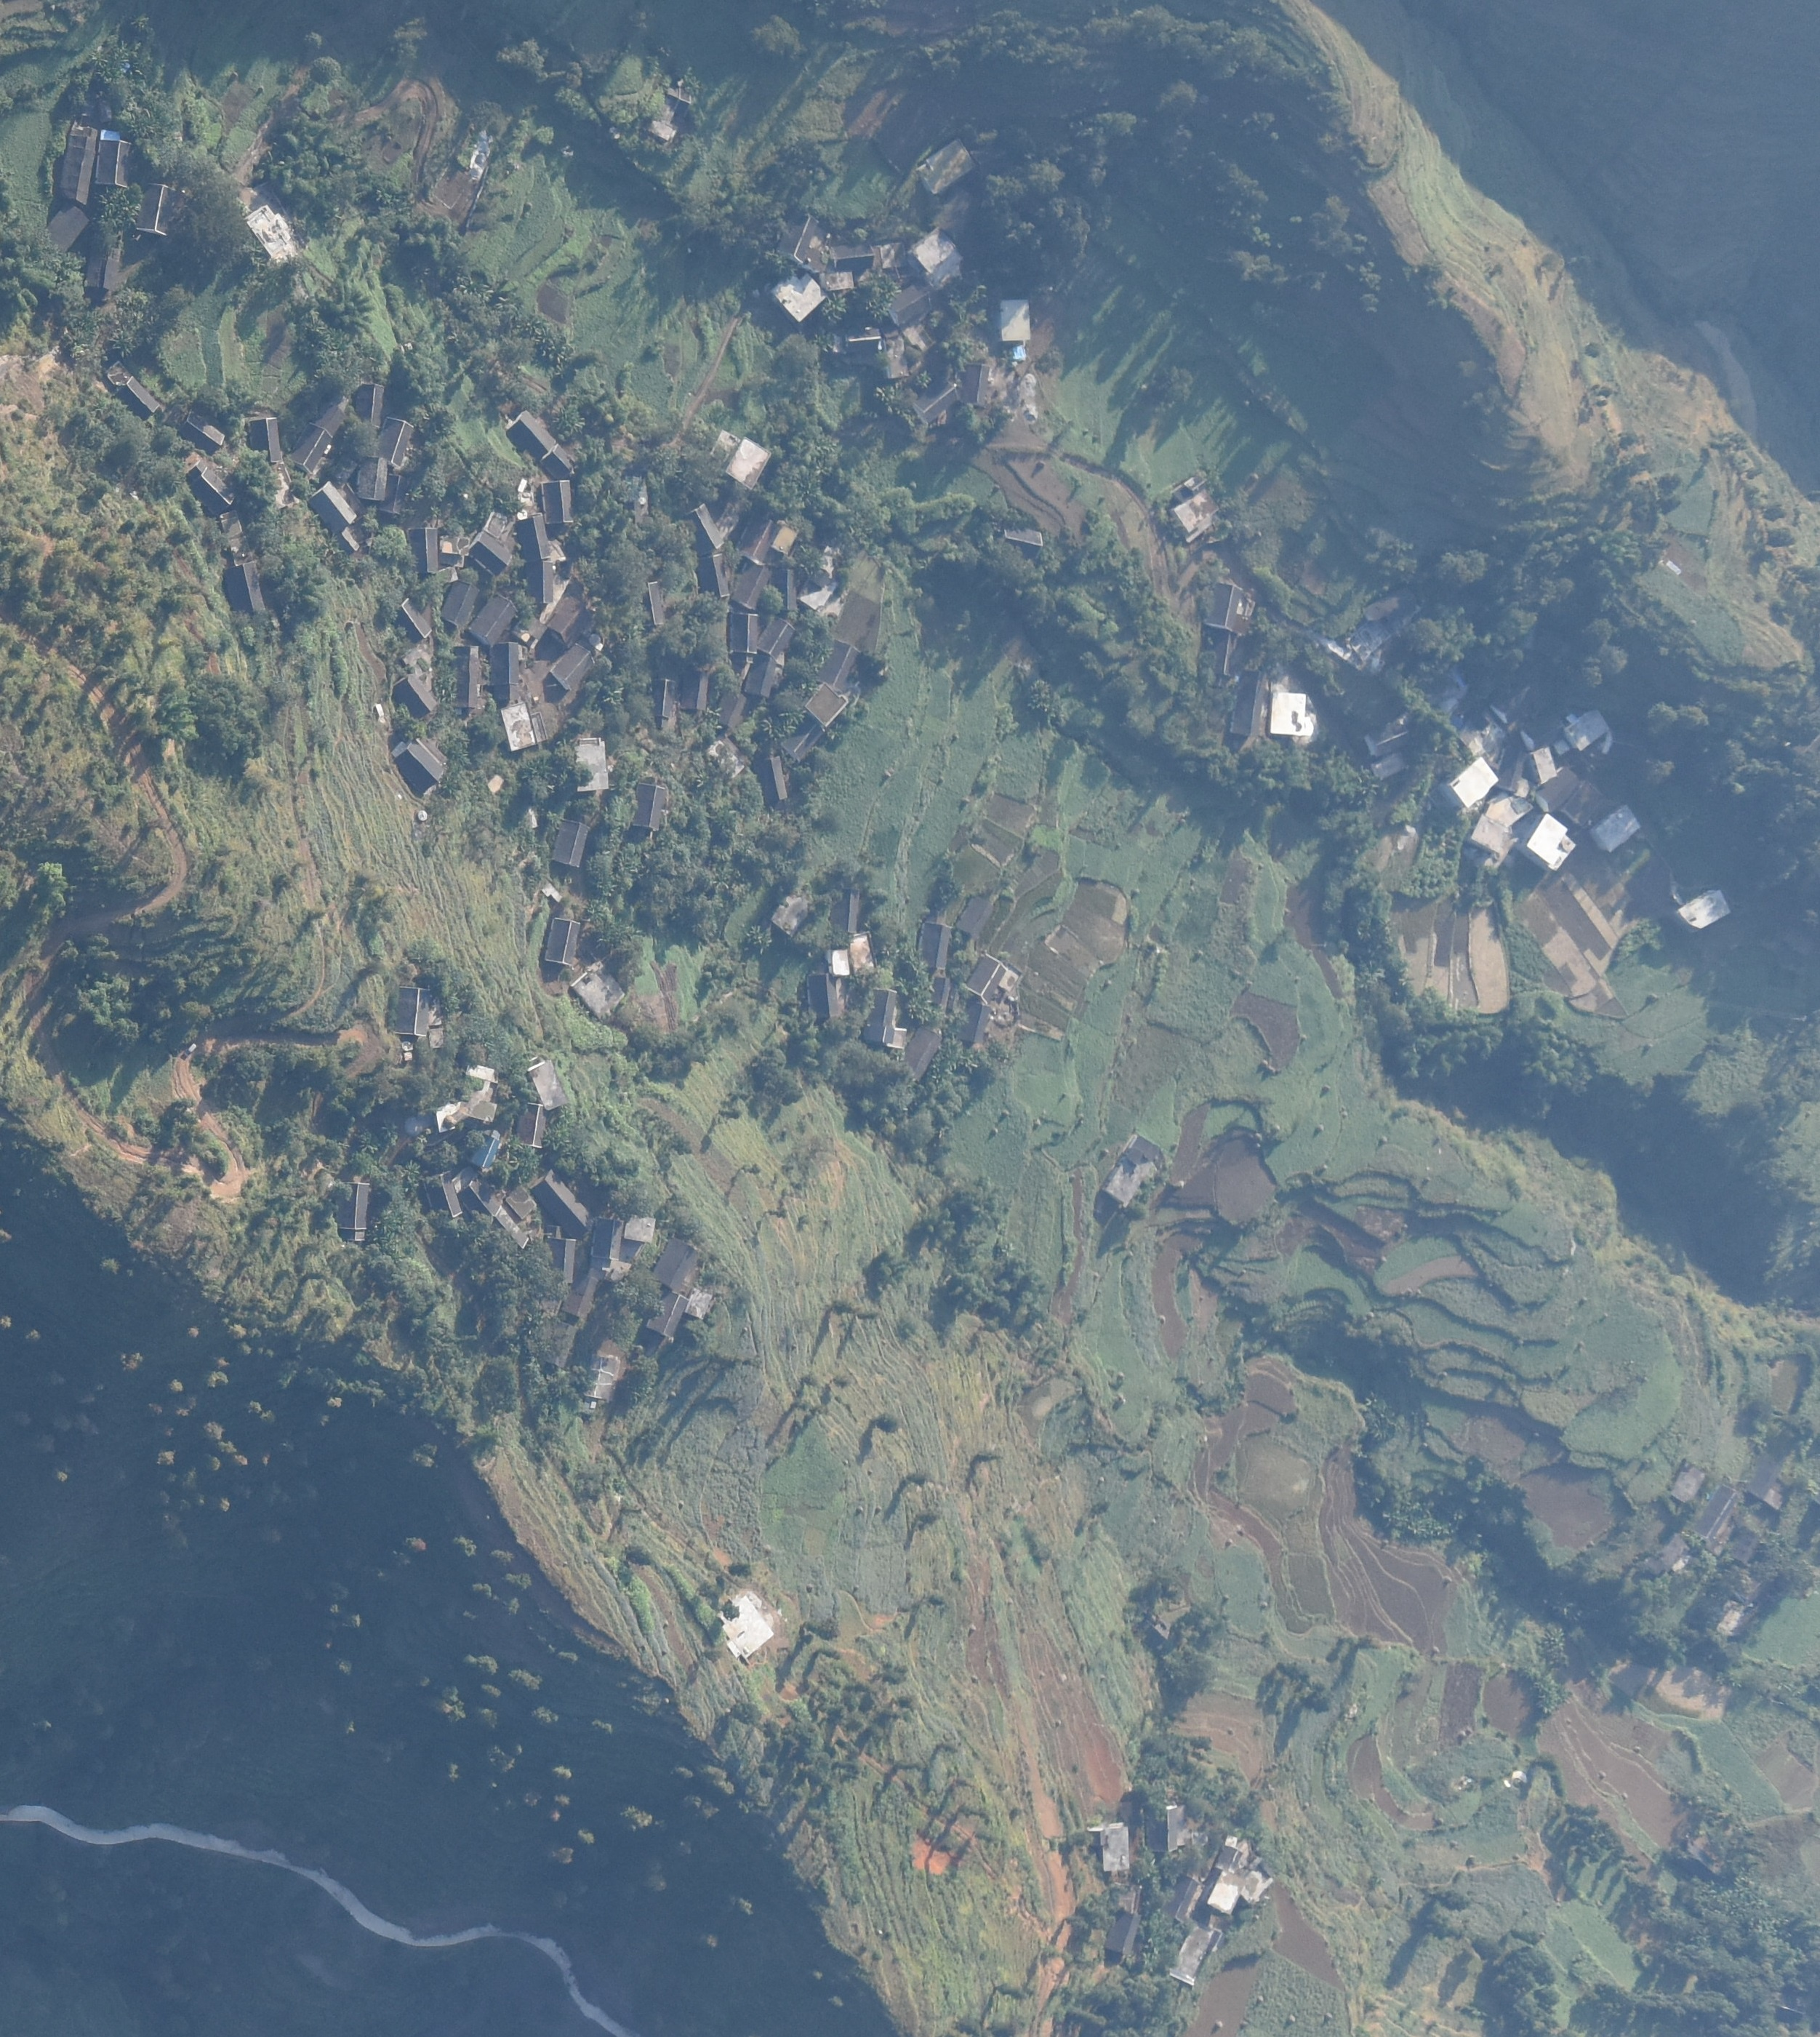building: (459, 1178, 538, 1250), (1100, 1135, 1170, 1211), (1202, 1838, 1270, 1910), (508, 410, 576, 478), (304, 482, 360, 552), (571, 958, 631, 1021), (719, 1591, 775, 1657), (531, 1172, 592, 1232), (1163, 475, 1221, 538), (1474, 796, 1532, 858), (1170, 1926, 1224, 1990), (248, 202, 297, 271), (397, 984, 443, 1058), (592, 1216, 657, 1267), (648, 1292, 713, 1341), (1441, 756, 1499, 810), (776, 209, 827, 271), (912, 227, 963, 288), (1360, 721, 1414, 777), (921, 135, 973, 193), (1744, 1439, 1790, 1506), (711, 432, 766, 487), (964, 953, 1021, 1005), (1535, 772, 1597, 819), (646, 1239, 701, 1292), (358, 457, 408, 515), (58, 121, 93, 202), (1527, 814, 1576, 870), (894, 1030, 943, 1084), (90, 128, 135, 186), (741, 518, 796, 566), (819, 636, 866, 691), (766, 274, 824, 318), (46, 202, 88, 262), (824, 243, 877, 290), (1674, 889, 1737, 928), (184, 460, 232, 511), (864, 990, 905, 1049), (1228, 671, 1263, 738), (1144, 1805, 1191, 1854), (473, 594, 518, 645), (225, 557, 264, 617), (527, 1056, 567, 1113), (831, 932, 878, 979), (546, 647, 596, 692), (1592, 805, 1641, 851), (139, 181, 177, 239), (499, 701, 541, 754), (462, 1060, 497, 1123), (1694, 1485, 1736, 1538), (650, 88, 690, 142), (394, 673, 439, 721), (912, 380, 959, 425), (246, 413, 286, 466), (1365, 592, 1418, 633), (1203, 582, 1246, 631), (448, 643, 480, 708), (587, 1350, 622, 1408), (466, 529, 511, 573), (397, 740, 444, 782), (782, 714, 824, 761), (337, 1183, 371, 1243), (548, 819, 589, 868), (803, 972, 843, 1021), (917, 916, 952, 972), (801, 557, 840, 608), (490, 642, 524, 700), (884, 290, 942, 323), (768, 893, 817, 932), (1268, 694, 1318, 733), (574, 736, 610, 789), (439, 578, 478, 626), (425, 1171, 464, 1218), (1093, 1823, 1131, 1870), (378, 417, 415, 464), (687, 504, 724, 552), (288, 427, 330, 468), (733, 566, 775, 606), (1565, 708, 1606, 750), (998, 297, 1031, 348), (179, 411, 223, 450), (545, 917, 578, 967), (634, 780, 668, 830), (1107, 1907, 1140, 1956), (806, 685, 847, 726), (118, 376, 156, 418), (1646, 1538, 1688, 1577), (353, 385, 388, 431), (957, 895, 993, 940), (1165, 1874, 1198, 1921), (515, 1102, 548, 1148), (564, 1272, 597, 1318), (998, 527, 1045, 559), (395, 598, 432, 638), (1669, 1459, 1704, 1501), (88, 237, 118, 286), (516, 513, 548, 559), (524, 559, 555, 605), (757, 759, 789, 805), (1725, 1531, 1762, 1569), (759, 617, 794, 657), (543, 478, 573, 526), (729, 612, 761, 656), (543, 1323, 574, 1367), (411, 526, 439, 575), (1212, 633, 1239, 684), (548, 1234, 576, 1281), (552, 598, 581, 642), (743, 659, 776, 698), (882, 334, 910, 380), (466, 1134, 499, 1171), (699, 552, 726, 598), (961, 1000, 987, 1044), (838, 888, 861, 935), (776, 568, 801, 612), (678, 675, 706, 712), (715, 691, 741, 729), (924, 974, 950, 1012), (963, 364, 987, 404), (845, 329, 884, 353), (650, 678, 675, 717), (878, 239, 908, 271), (646, 578, 666, 624), (1530, 747, 1555, 782), (430, 1105, 464, 1130), (905, 323, 933, 350), (221, 513, 244, 536), (487, 775, 502, 789)
vehicle: (183, 1042, 197, 1060)
well: (416, 808, 427, 821)
